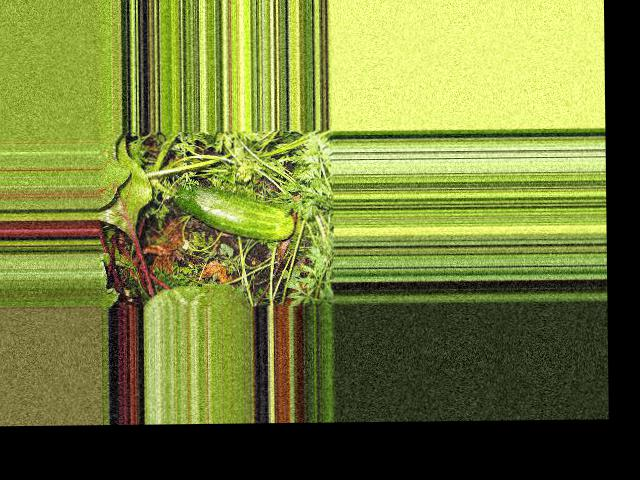cucumber: (171, 181, 292, 241)
